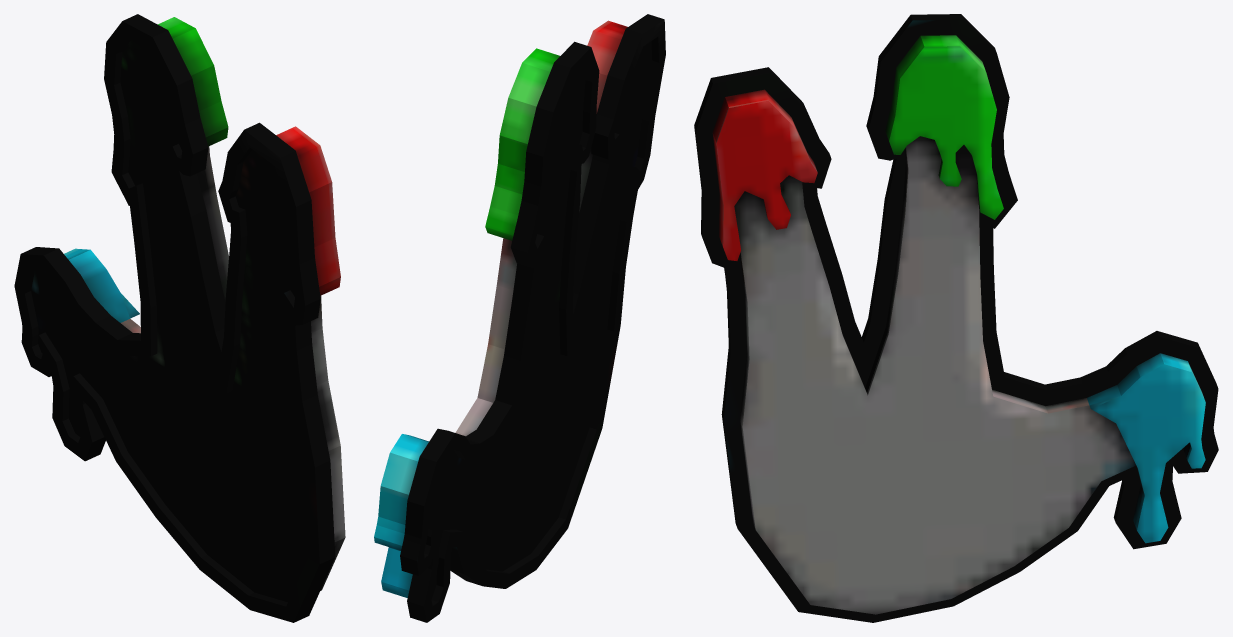
File: FINGER PAINTER BADGE.fbx
3 renders of one model, left to right at view 1: azimuth 30°, elevation 25°; view 2: azimuth 150°, elevation 25°; view 3: azimuth 270°, elevation 25°, orthographic. The views are drawn at different scales.
Parts seen in each view (by area): view 1: FINGER_PAINTER_BADGE; view 2: FINGER_PAINTER_BADGE; view 3: FINGER_PAINTER_BADGE.
Part boxes in pixels (left/top/right/bottom): FINGER_PAINTER_BADGE: left=14, top=14, right=345, bottom=622; FINGER_PAINTER_BADGE: left=374, top=14, right=665, bottom=622; FINGER_PAINTER_BADGE: left=694, top=14, right=1218, bottom=622.
Size of the model in its own units: 3.62 by 16.32 by 13.67.
